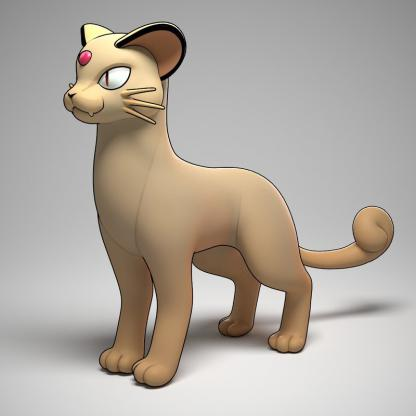Persian: (56, 15, 416, 389)
